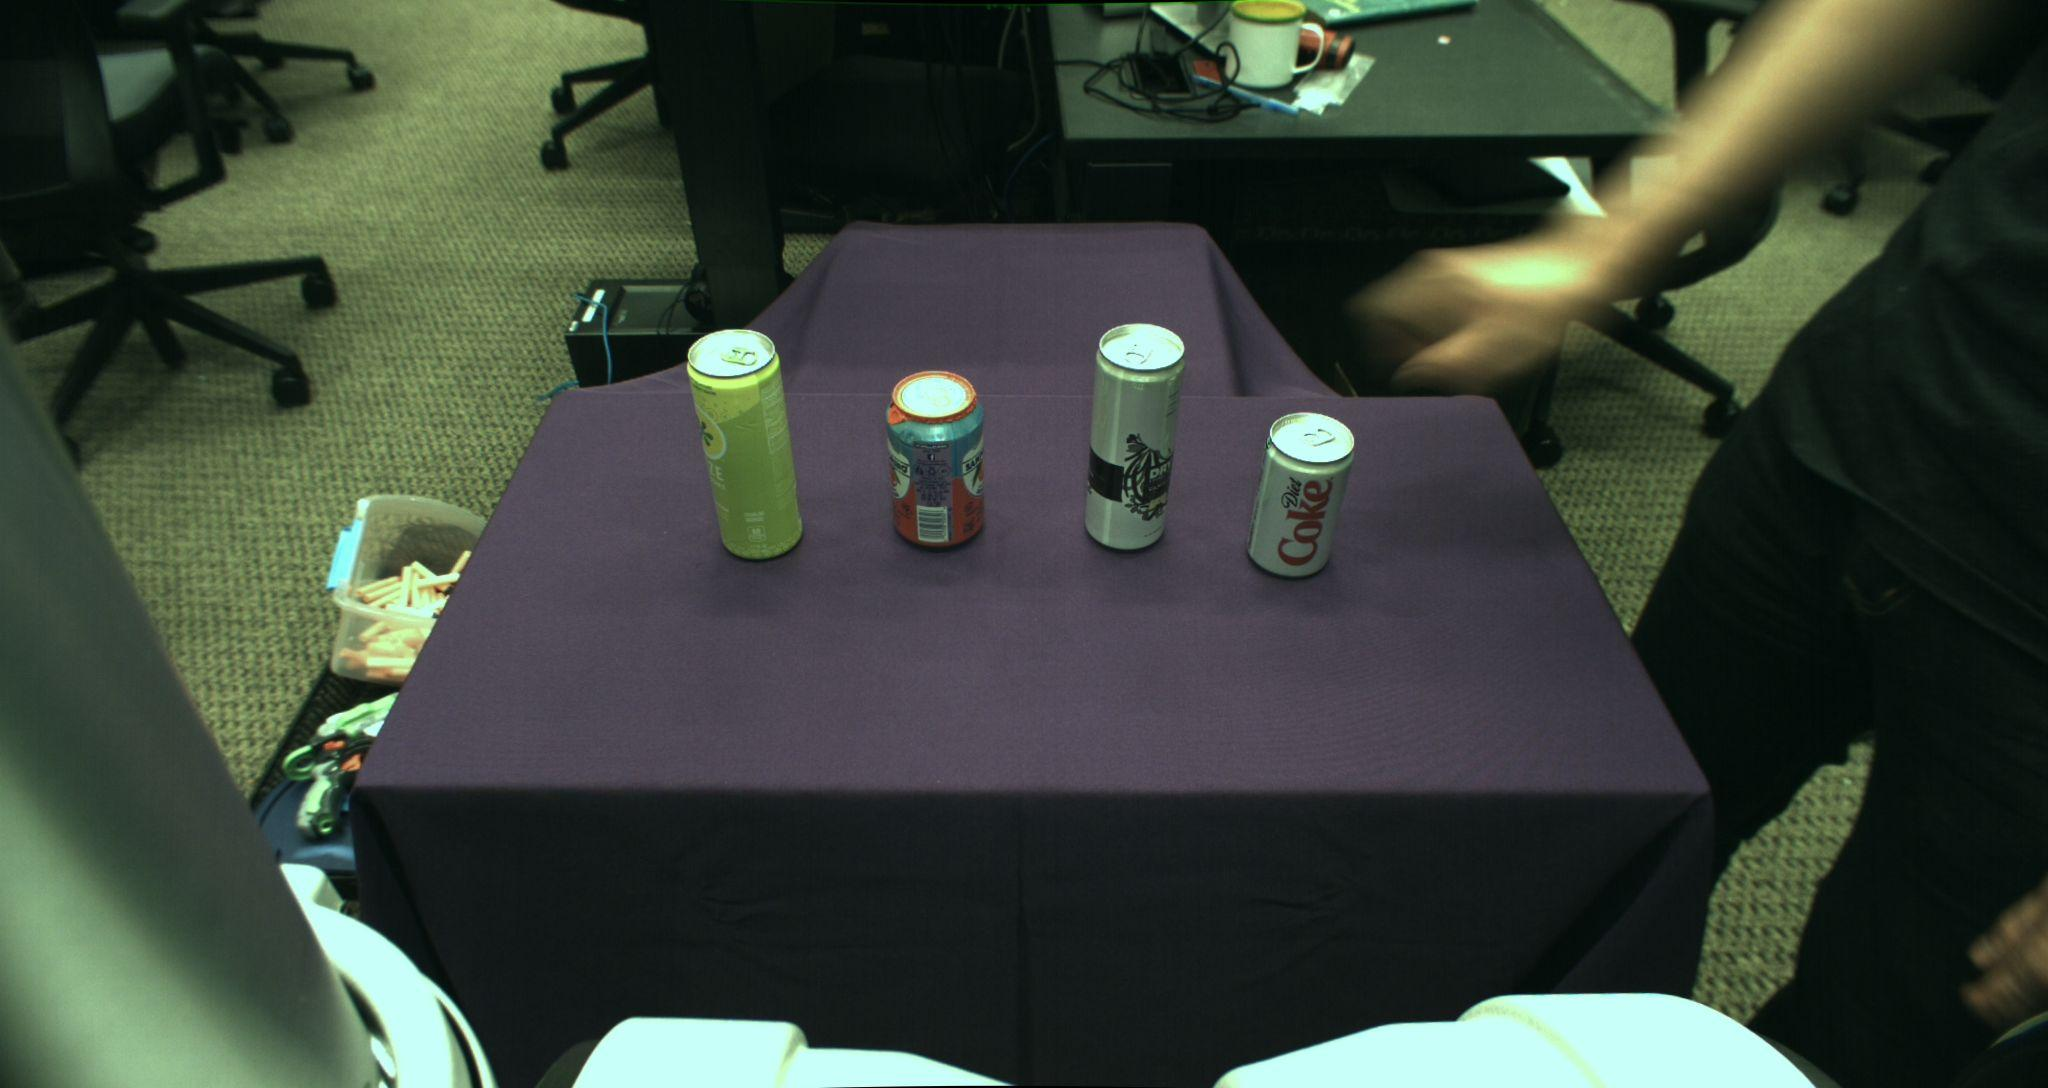can_diet_coke_small: (1245, 411, 1356, 579)
can_dry_sparkling_vanilla_bean: (1085, 321, 1185, 549)
can_izze_fusions_lemon_lime: (687, 328, 802, 560)
can_sanpellegrino_blood_orange: (884, 369, 986, 549)
